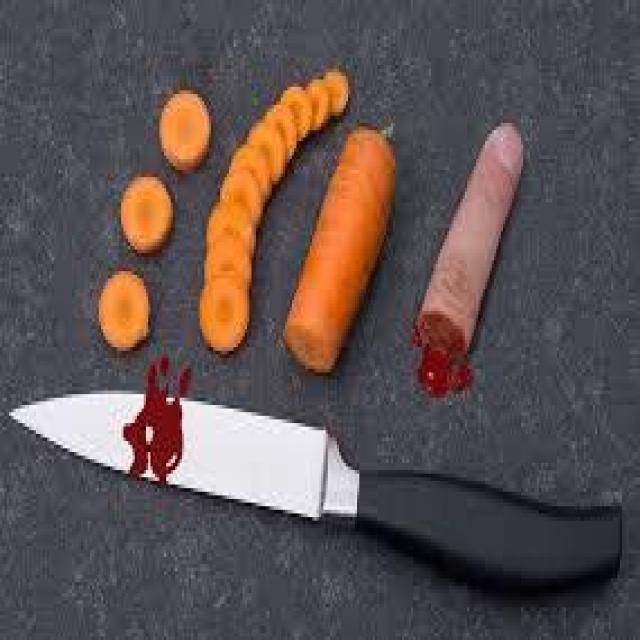Knife: (6, 394, 626, 588)
